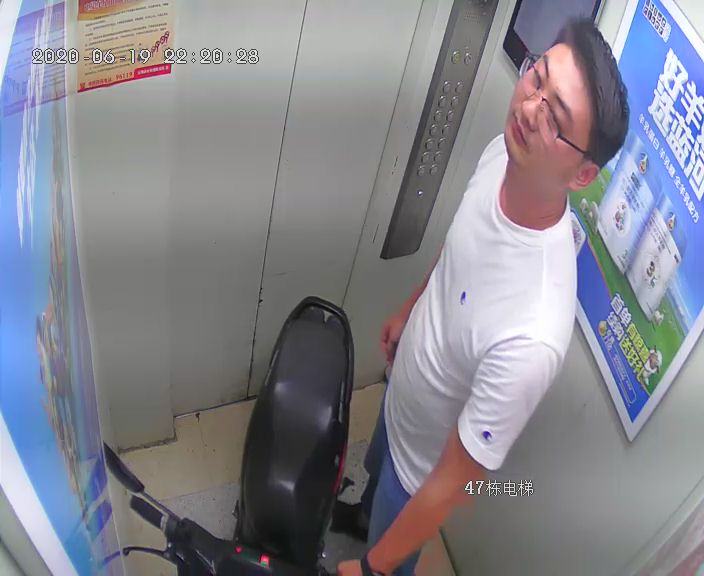Electric-bicycle: (107, 301, 351, 576)
